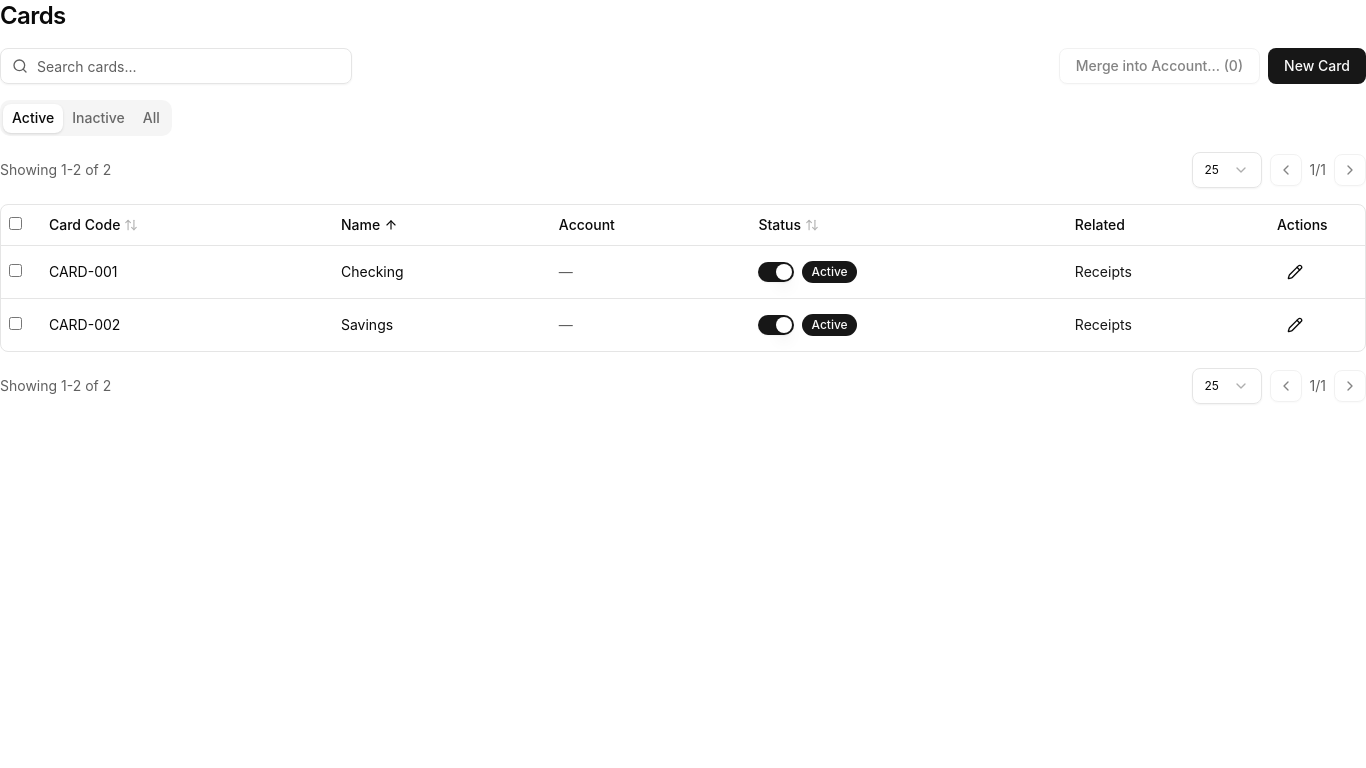
it: Cards › opens create dialog when New Card button is clicked
What coordinates should you click on to do the following:
click the button "New Card"
I would click on:
 (1317, 66)
Its box is [1268, 48, 1365, 84].
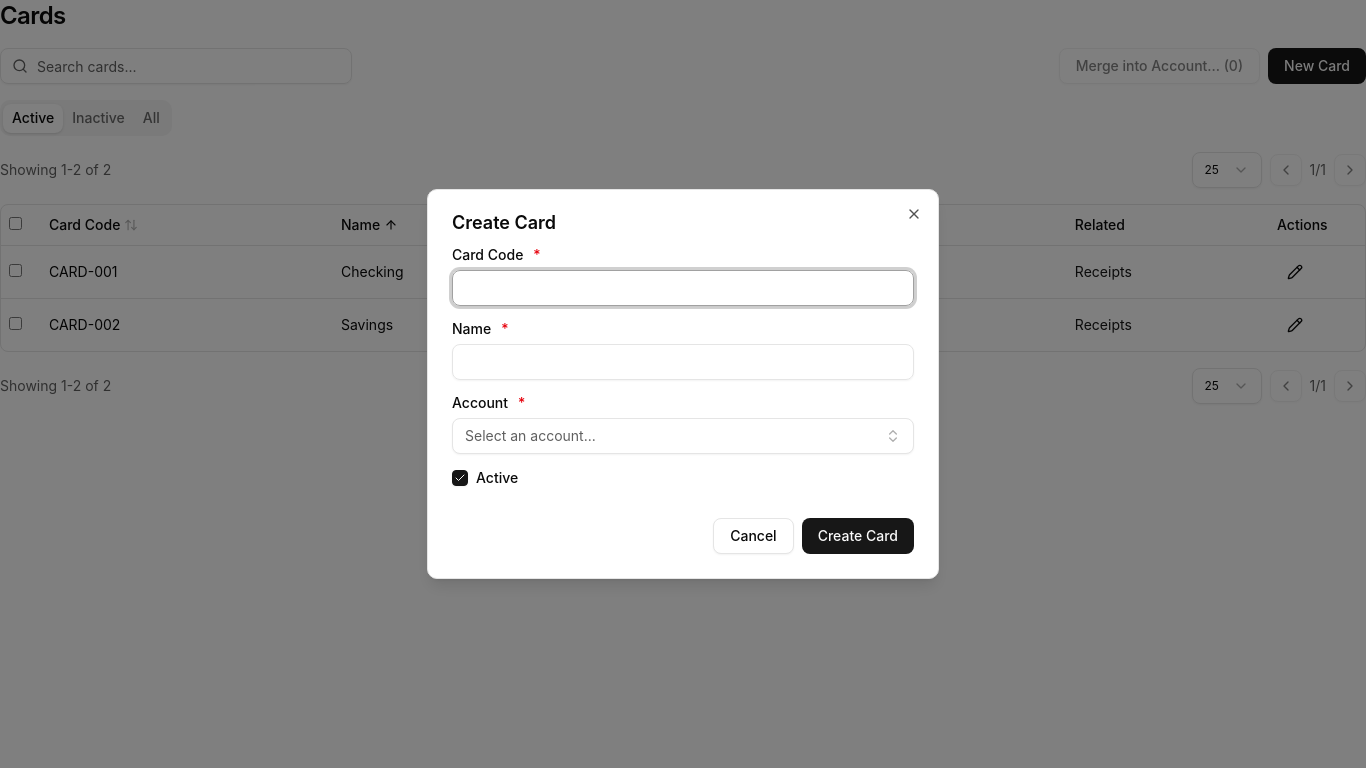
Expected: the heading "Create Card" is shown, [452, 212, 556, 233]
